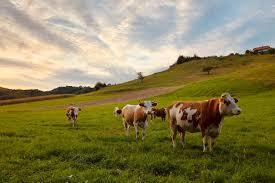cow: (166, 92, 242, 153), (120, 100, 158, 140), (64, 105, 83, 127), (150, 107, 167, 122), (111, 105, 122, 117)
